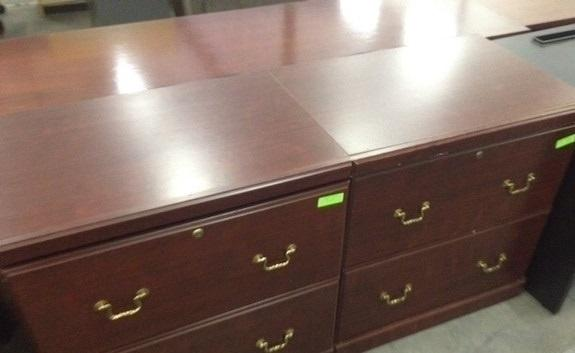cabinet_door: (11, 210, 343, 317), (351, 157, 551, 236), (353, 244, 533, 307), (37, 314, 328, 352)
handle: (92, 286, 155, 324), (250, 242, 300, 275), (389, 199, 434, 230), (253, 325, 295, 353), (376, 281, 418, 308), (499, 171, 539, 199), (475, 250, 511, 278)
